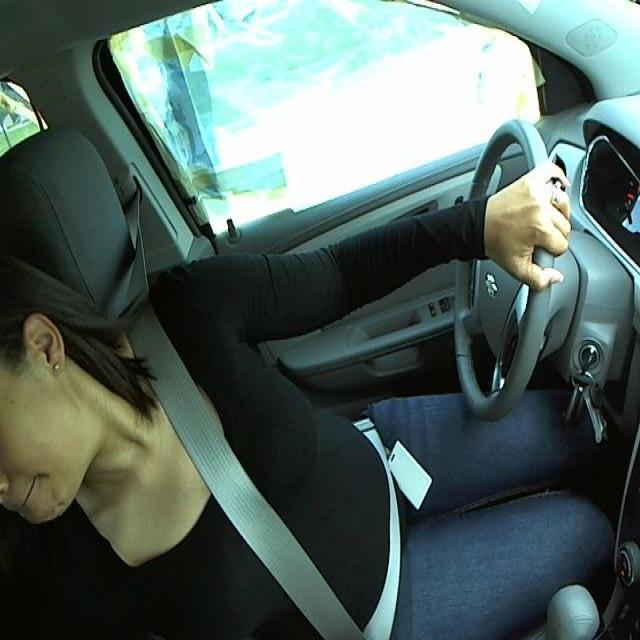seatbelt: (129, 358, 412, 638)
